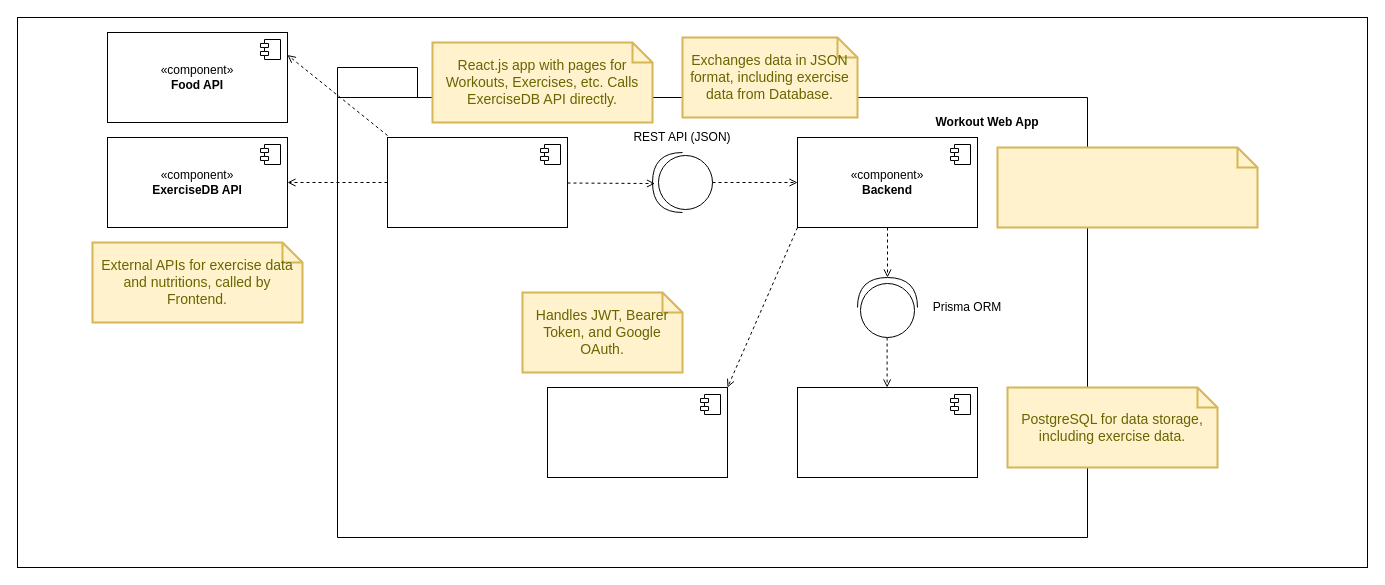
Image size: 1385x585. Some labels were removed from this diagram. Each missing label, with the centre of its shape:
"Node.js with TypeScript for API logic. Retrieves exercise data from Database. ." goes at point (1127, 187).
"«component» Authentication Service" goes at point (637, 432).
"«component» Database" goes at point (887, 432).
"«component» Frontend" goes at point (477, 182).
